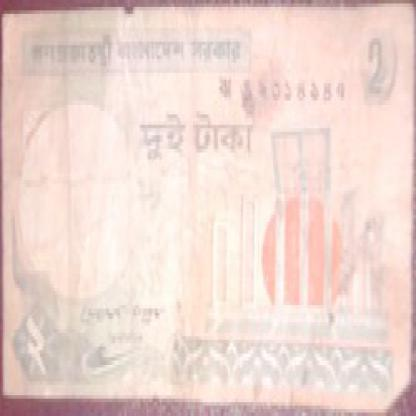two taka: (126, 111, 264, 194), (12, 288, 75, 412), (364, 28, 388, 111)
